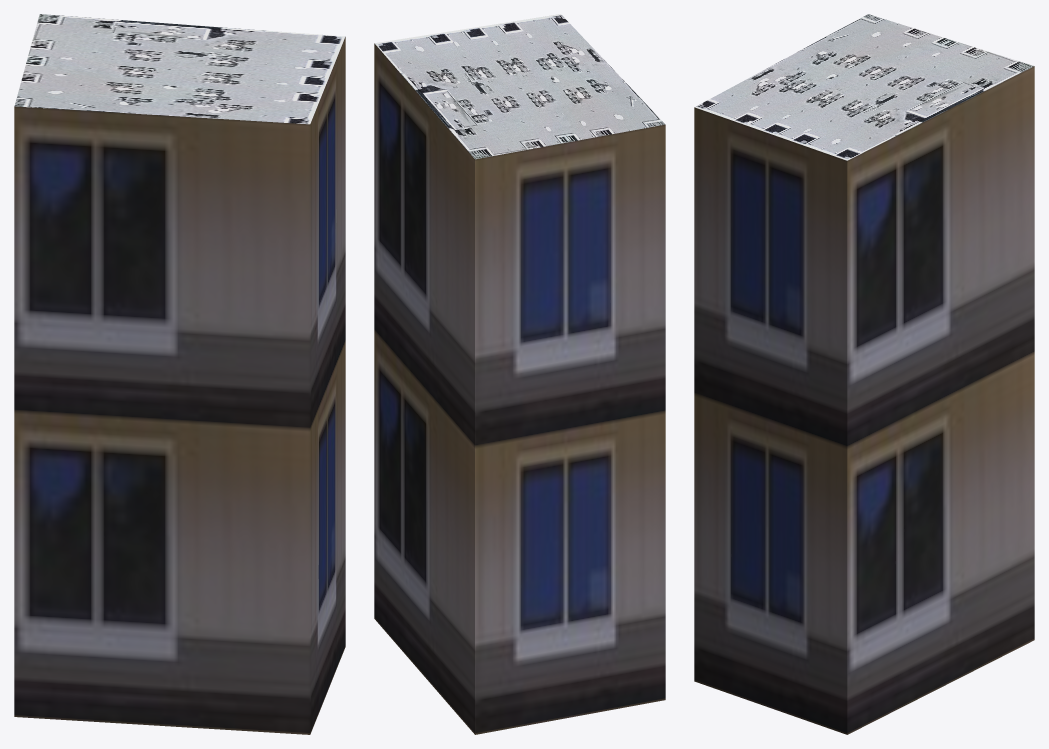
The model's file is ResTex__676.fbx.
3 renders of one model, left to right at view 1: azimuth 30°, elevation 25°; view 2: azimuth 150°, elevation 25°; view 3: azimuth 270°, elevation 25°, orthographic. The views are drawn at different scales.
Parts seen in each view (by area): view 1: CityEngineMaterial_5_m, CityEngineMaterial_8_m; view 2: CityEngineMaterial_5_m, CityEngineMaterial_8_m; view 3: CityEngineMaterial_5_m, CityEngineMaterial_8_m.
Boxes of the visible parts, x1,y1,x2,y2 form: CityEngineMaterial_5_m: (14,37,345,734); CityEngineMaterial_8_m: (14,14,345,124); CityEngineMaterial_5_m: (374,43,665,734); CityEngineMaterial_8_m: (375,14,665,159); CityEngineMaterial_5_m: (694,66,1034,734); CityEngineMaterial_8_m: (695,14,1033,160).
Bounding box in the file's own units: 3.29 × 6 × 3.22.
2 materials, 2 textured.
